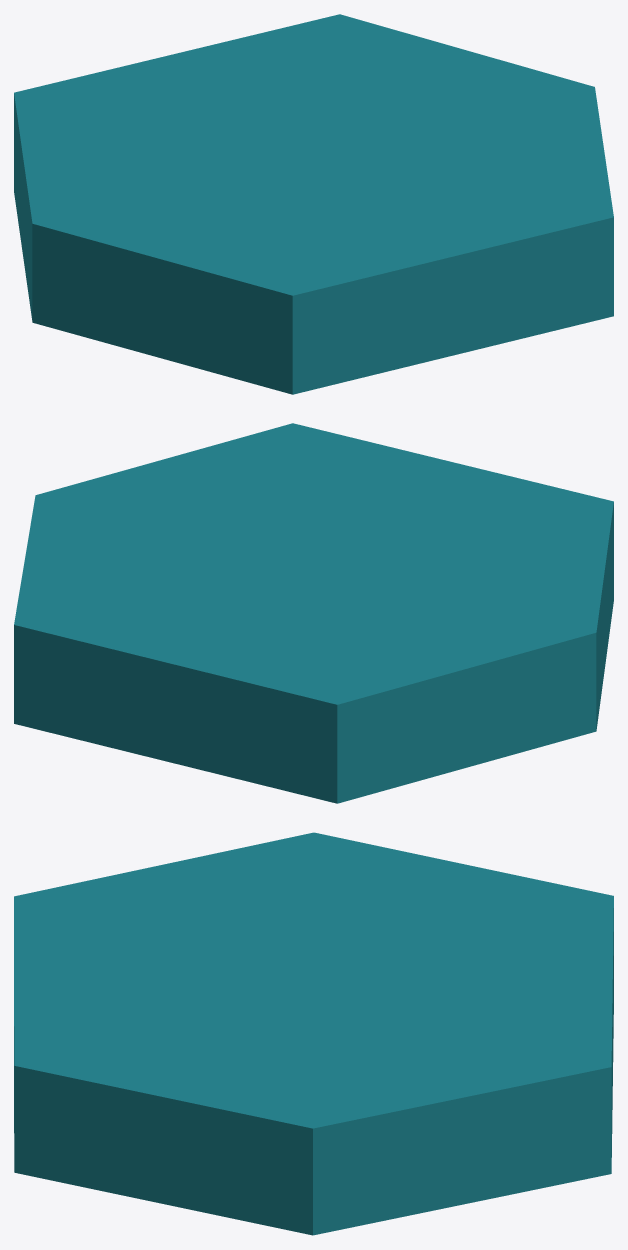
File: water.fbx
3 views of the same model, one above another, from view 1: azimuth 30°, elevation 25°; view 2: azimuth 150°, elevation 25°; view 3: azimuth 270°, elevation 25° (orthographic). The views are drawn at different scales.
Parts seen in each view (by area): view 1: Cube; view 2: Cube; view 3: Cube.
Part boxes in pixels (<box>): Cube: <box>14,14,613,394</box>; Cube: <box>14,423,613,803</box>; Cube: <box>14,832,613,1235</box>.
Size of the model in its own units: 495 by 83.38 by 424.
